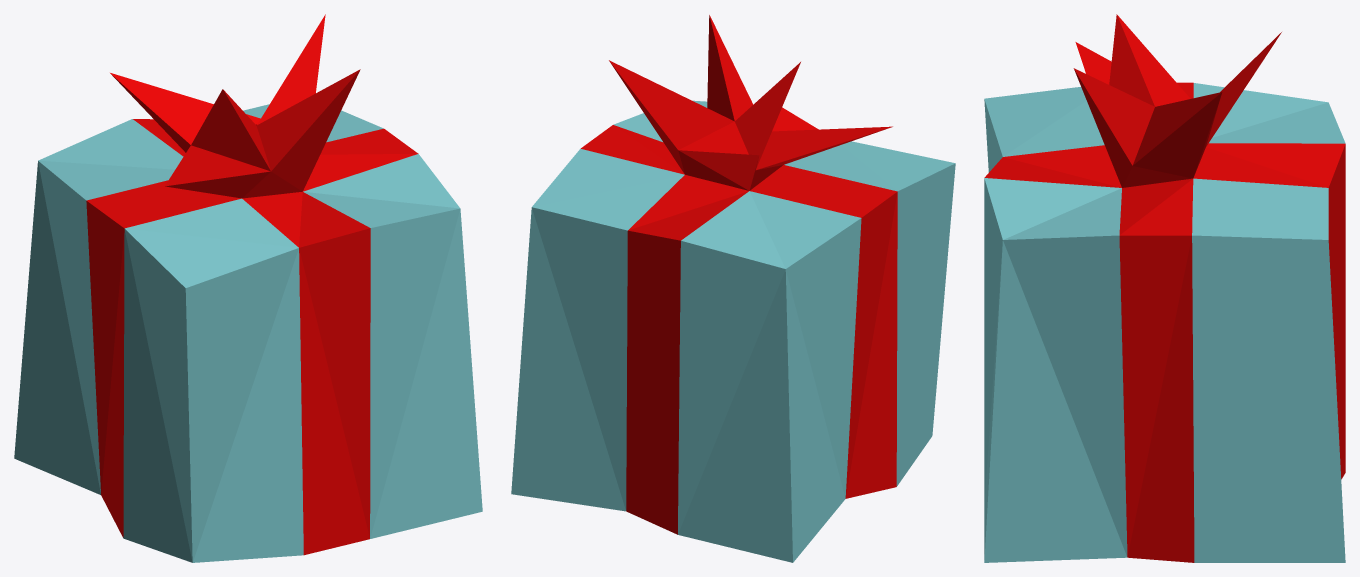
The model's file is christmas_box.fbx.
3 renders of one model, left to right at view 1: azimuth 30°, elevation 25°; view 2: azimuth 150°, elevation 25°; view 3: azimuth 270°, elevation 25°, orthographic. The views are drawn at different scales.
Visible parts, largest first — view 1: Cube; view 2: Cube; view 3: Cube.
Boxes of the visible parts, <box> form: Cube: <box>14,14,482,562</box>; Cube: <box>511,15,955,562</box>; Cube: <box>984,14,1345,562</box>.
Size of the model in its own units: 2 by 2.78 by 2.
